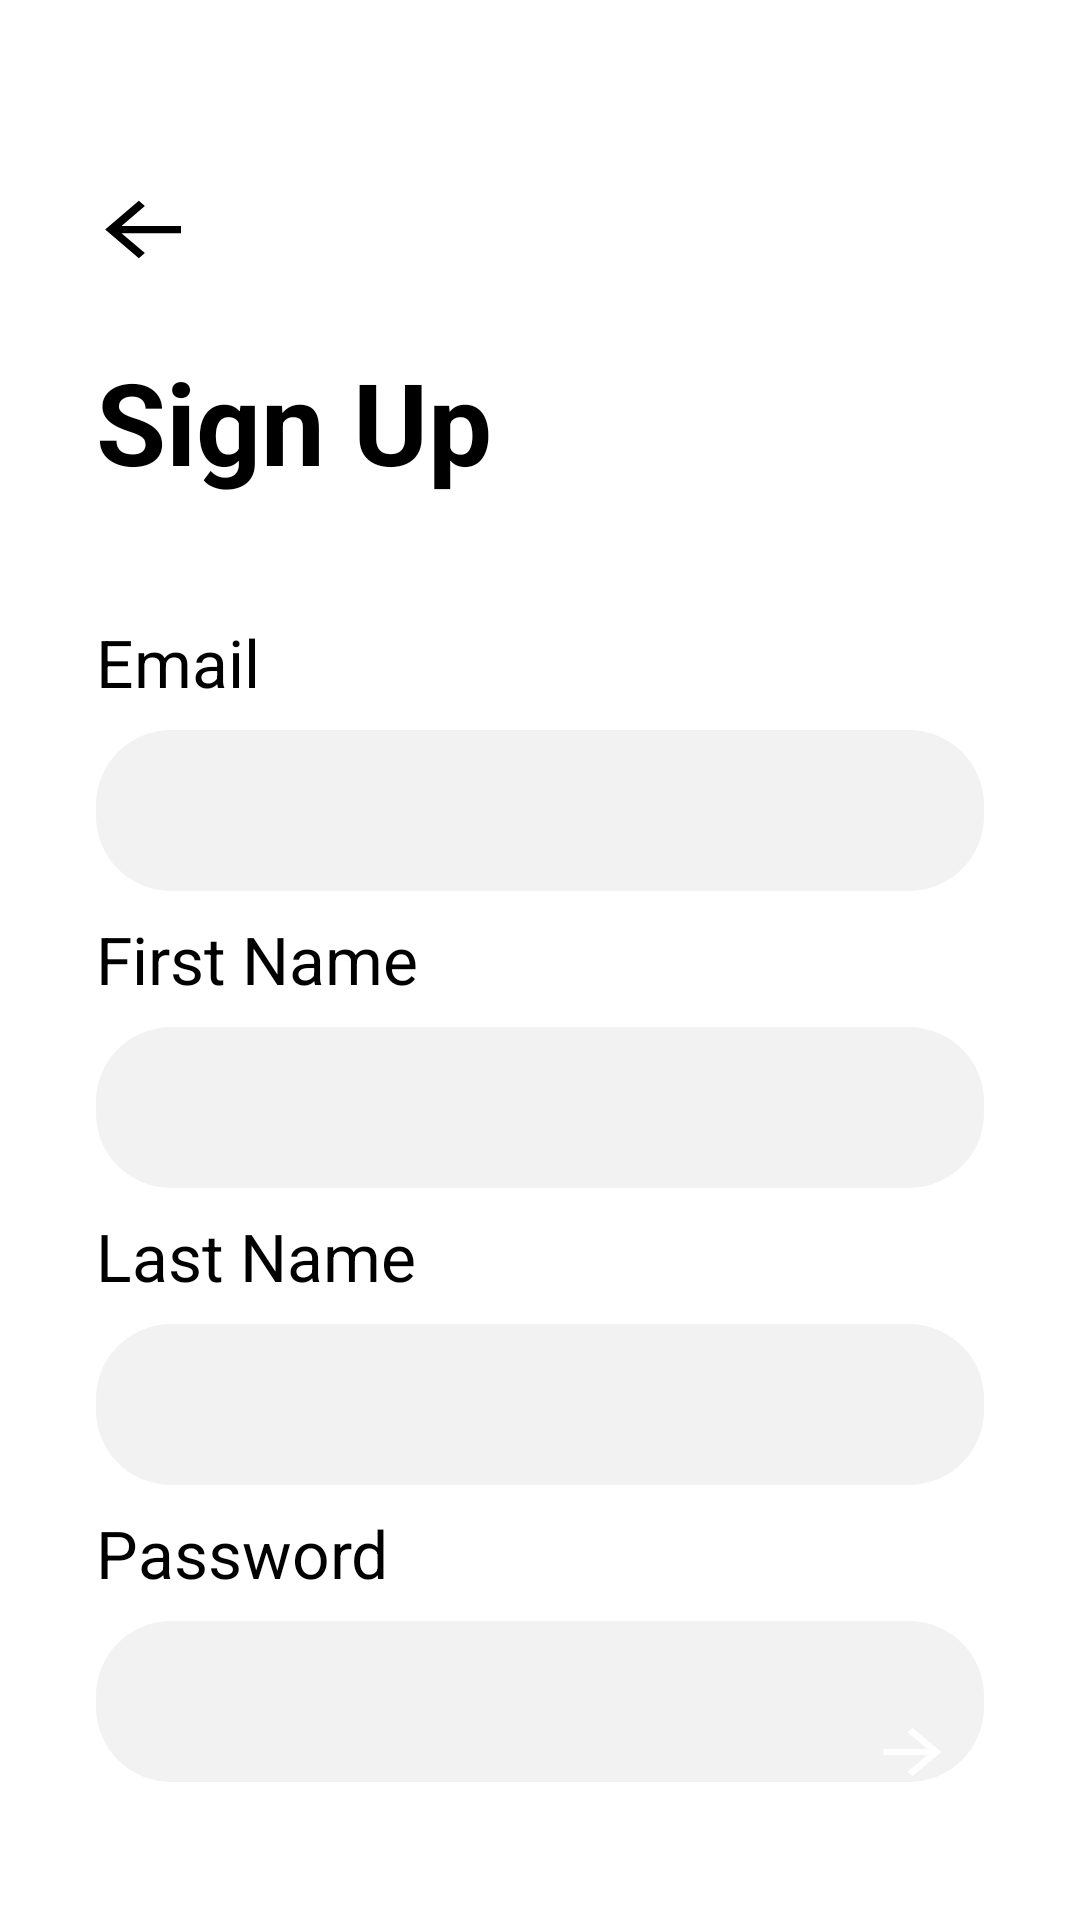

Icons on this 1080px×1920px Android screen, each with its box as (x1, y1, x2, y2):
back: (105, 201, 181, 258)
